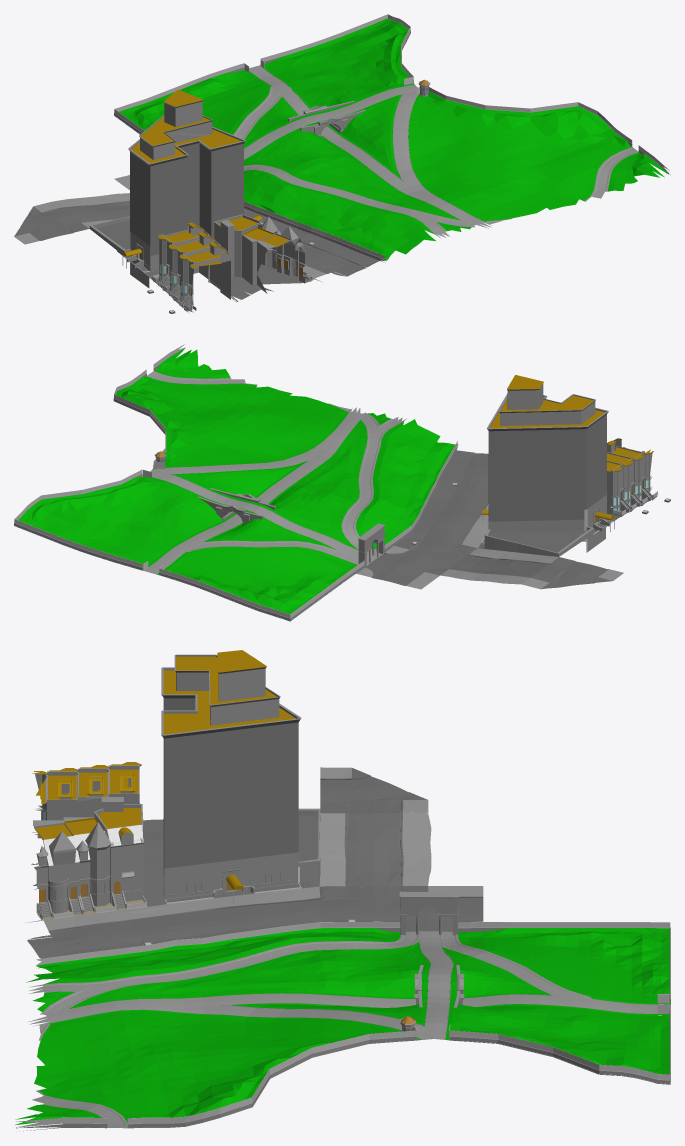
Rendered from brook_s3_1.FBX.
3 views of the same model, one above another, from view 1: azimuth 30°, elevation 25°; view 2: azimuth 150°, elevation 25°; view 3: azimuth 270°, elevation 25° (orthographic). The views are drawn at different scales.
Visible parts, largest first — view 1: unnamed, null; view 2: unnamed, null; view 3: unnamed, null.
Part boxes in pixels (box(x1,y1,x2,y2)): unnamed: box(14, 14, 669, 313); null: box(14, 87, 283, 236); unnamed: box(14, 344, 670, 598); null: box(227, 510, 611, 621); unnamed: box(15, 650, 670, 1131); null: box(346, 768, 670, 964).
Bounding box in the file's own units: 201 × 56.06 × 146.
